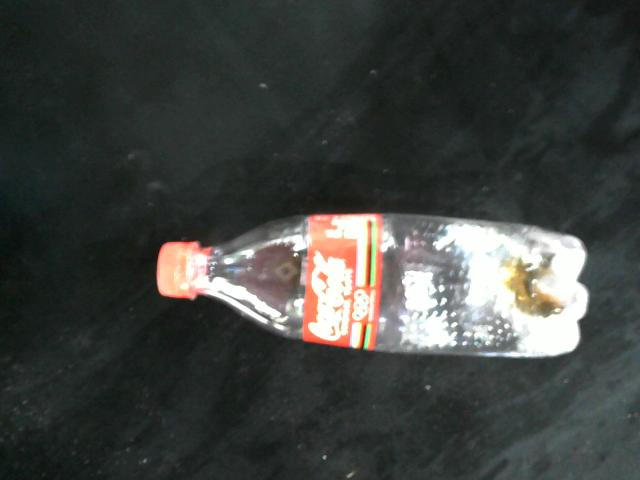bottle: (156, 212, 591, 358)
